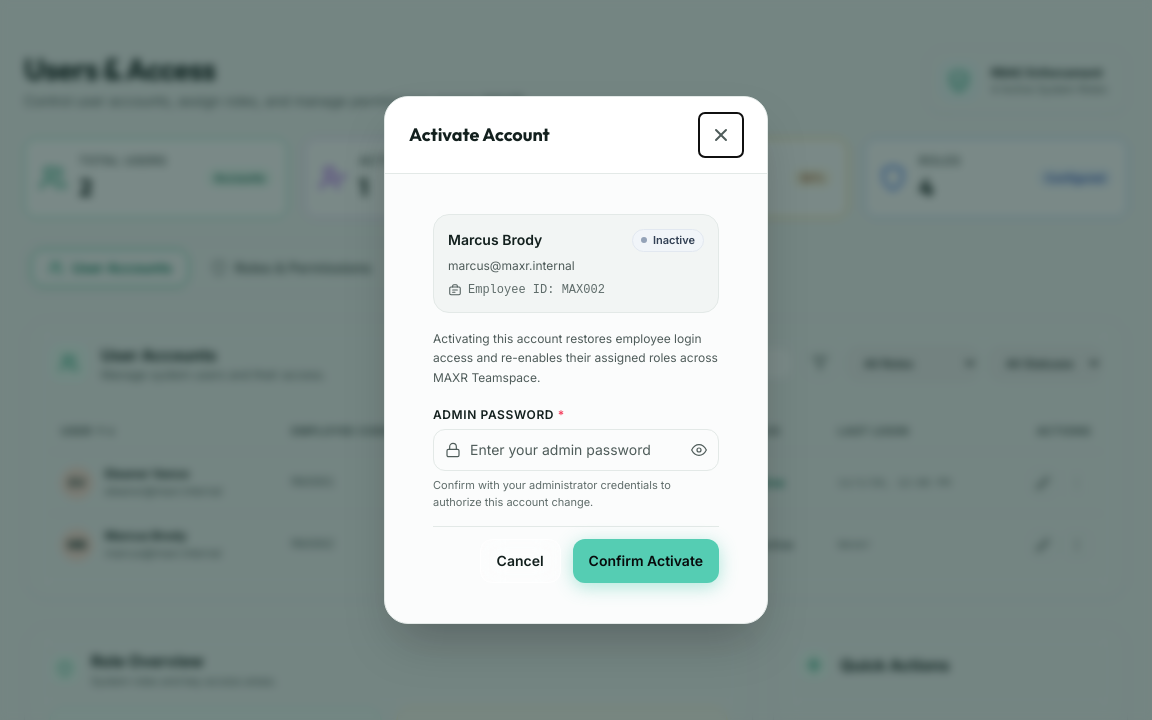
Test case: UsersPage Component Suite (Issue #27) › toggles another user account status with admin password verification and disables self-deactivation
Earlier steps of the test are not shown.
Later steps or results of the test are not shown.
Check: the element with test id "user-status-modal" is shown, box [409, 190, 743, 607]
Check: the heading "Activate Account" is shown, box [409, 121, 550, 149]
Click the button with test id "confirm-status-toggle-btn".
click(646, 561)  # box [573, 539, 719, 583]
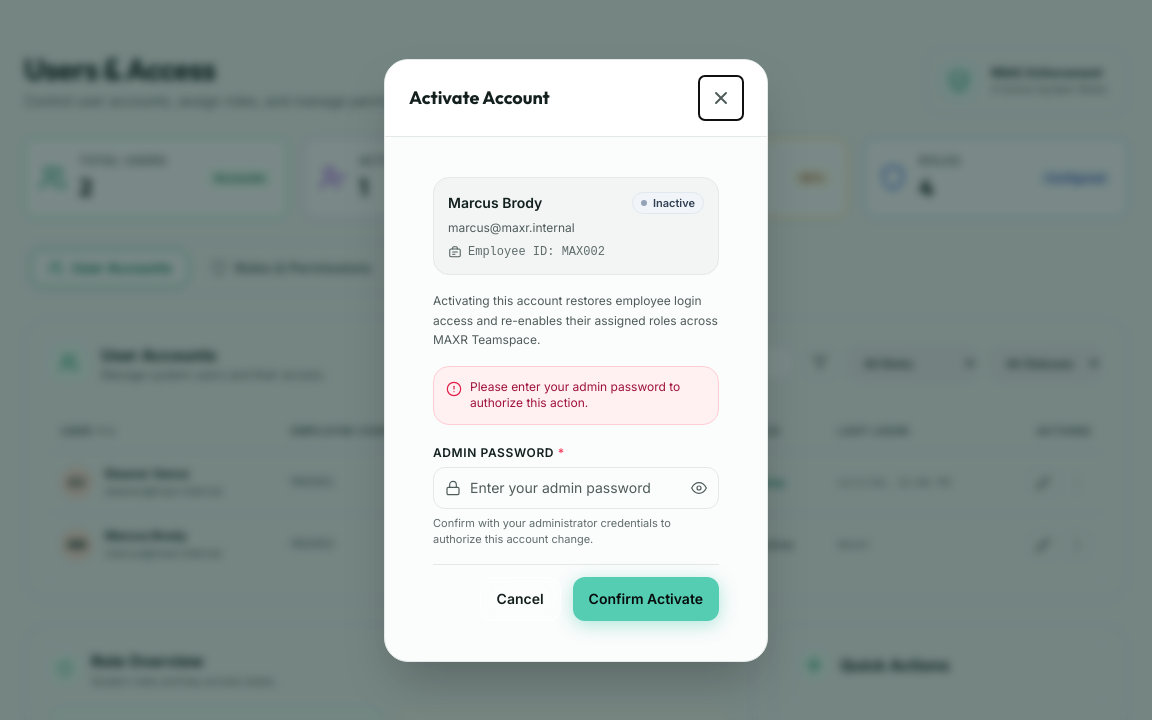
Check: the message with test id "user-status-error" shows "Please enter your admin password", box [470, 378, 680, 410]
